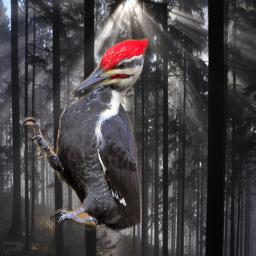Woodpecker: (21, 38, 148, 233)
